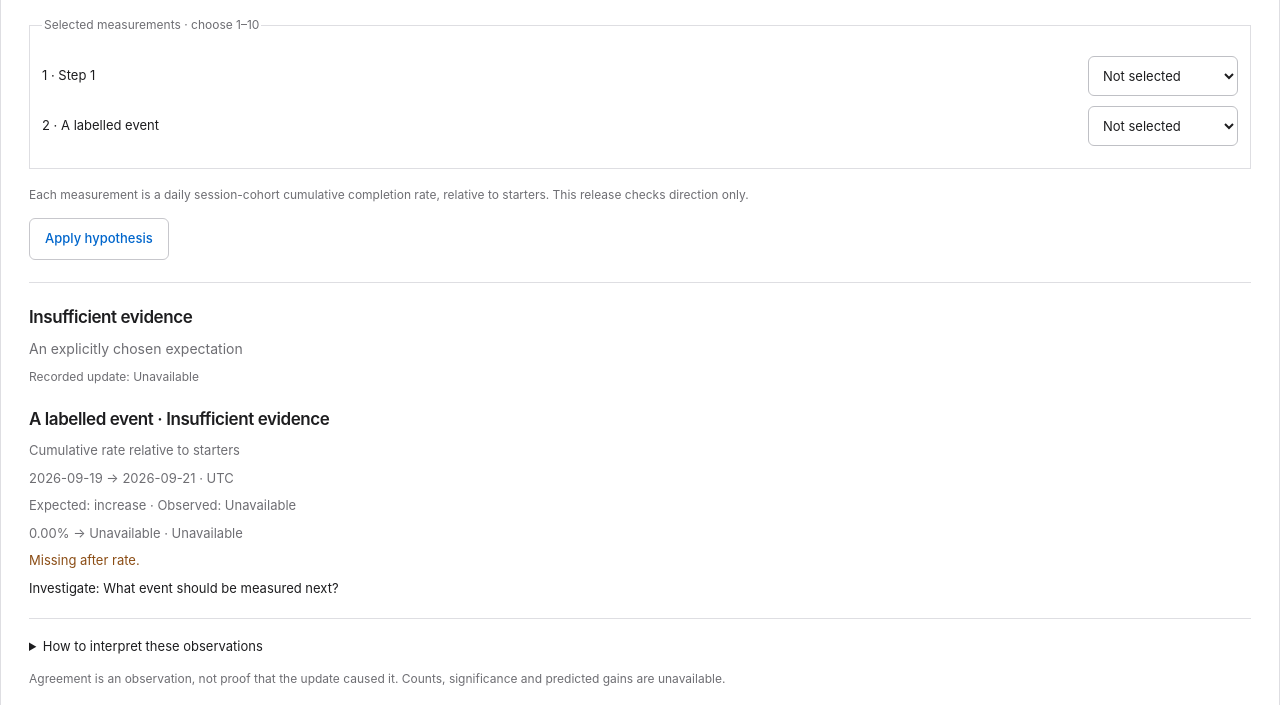
Test: explicit measurement controls › displays zero, missing evidence, dates, reason and next measurement
(page scrolled)
Expected: the text "0.00% → Unavailable · Unavailable" is shown, [29,525,243,541]
Expected: the text "2026-09-19 → 2026-09-21 · UTC" is shown, [29,470,234,486]
Click the heading "How to interpret these observations".
click(153, 646)  # box [43,638,263,654]
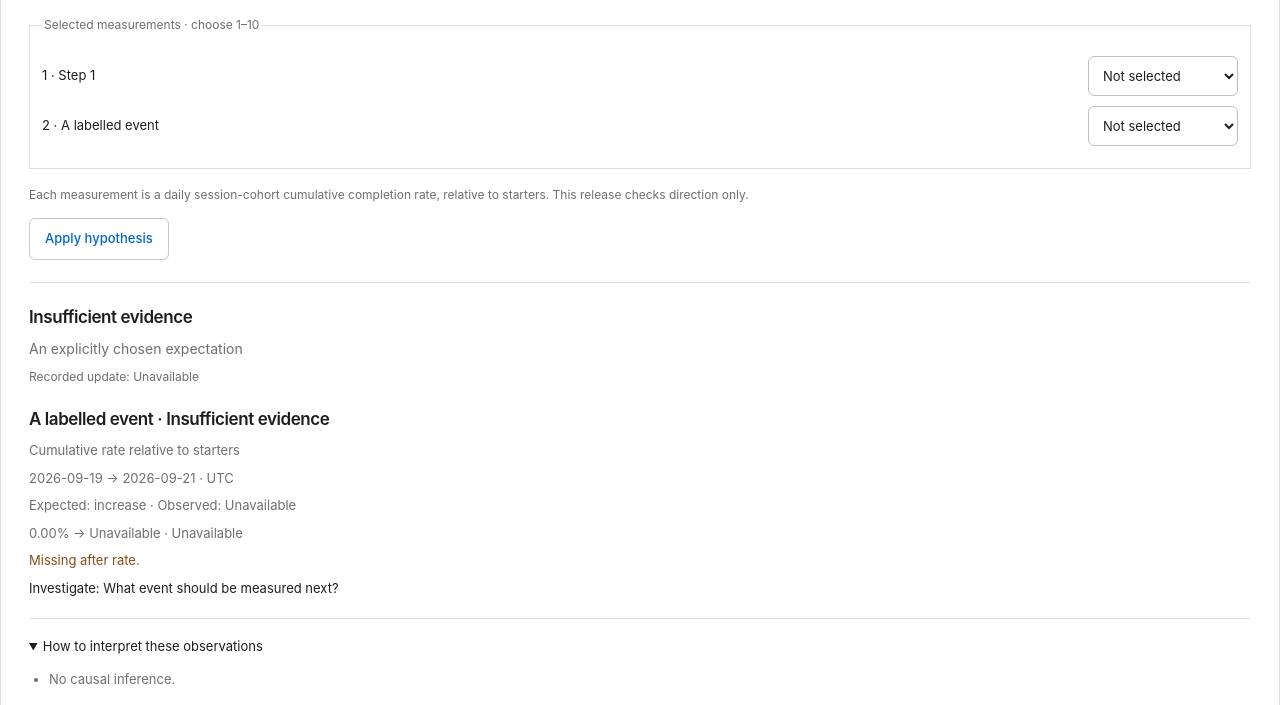
Now the list item "No causal inference." is shown, box [49,671,175,687]
